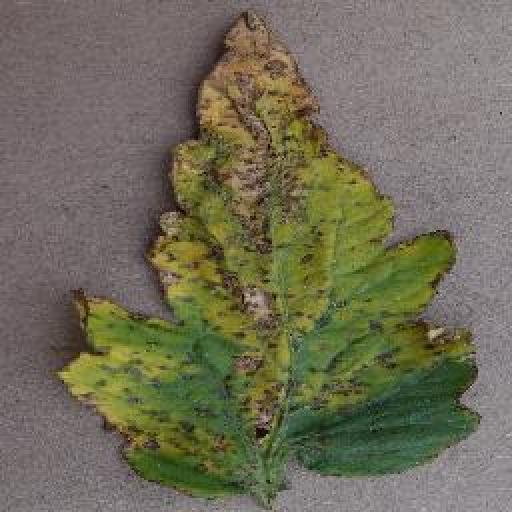Bacterial Spot: (45, 5, 484, 508)
